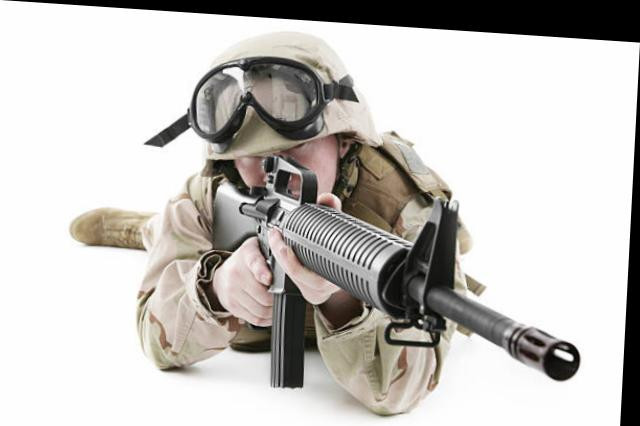other: (131, 50, 456, 407)
